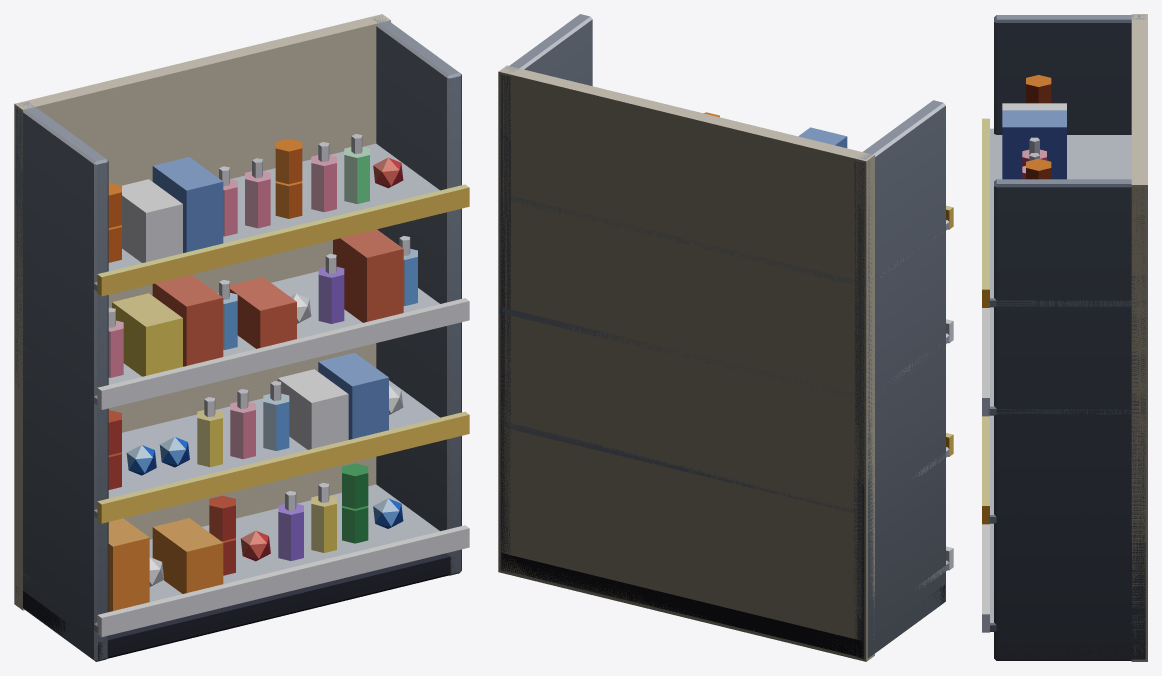
File: mart_shelf.glb
3 views of the same model, side by side, from view 1: azimuth 30°, elevation 25°; view 2: azimuth 150°, elevation 25°; view 3: azimuth 270°, elevation 25° (orthographic). The views are drawn at different scales.
Parts seen in each view (by area): view 1: mart_shelf; view 2: mart_shelf; view 3: mart_shelf.
Part boxes in pixels (bbox=[...]): mart_shelf: bbox=[14, 14, 469, 661]; mart_shelf: bbox=[498, 14, 953, 661]; mart_shelf: bbox=[982, 14, 1147, 661].
Size of the model in its own units: 1 by 1.3 by 0.41.
